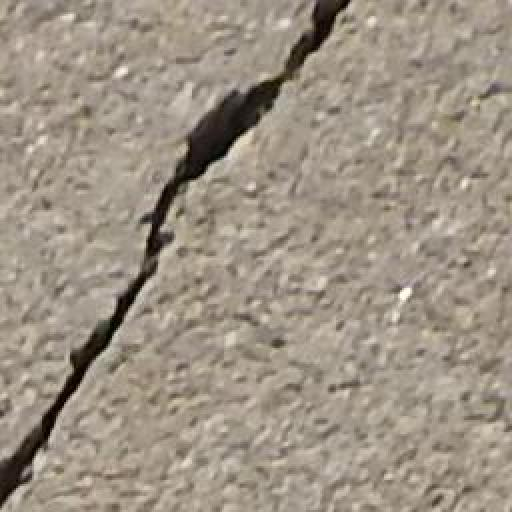spalling: (9, 7, 370, 500)
